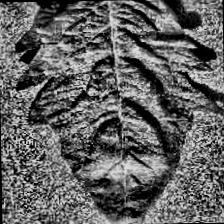spider mites: (12, 0, 223, 224)
